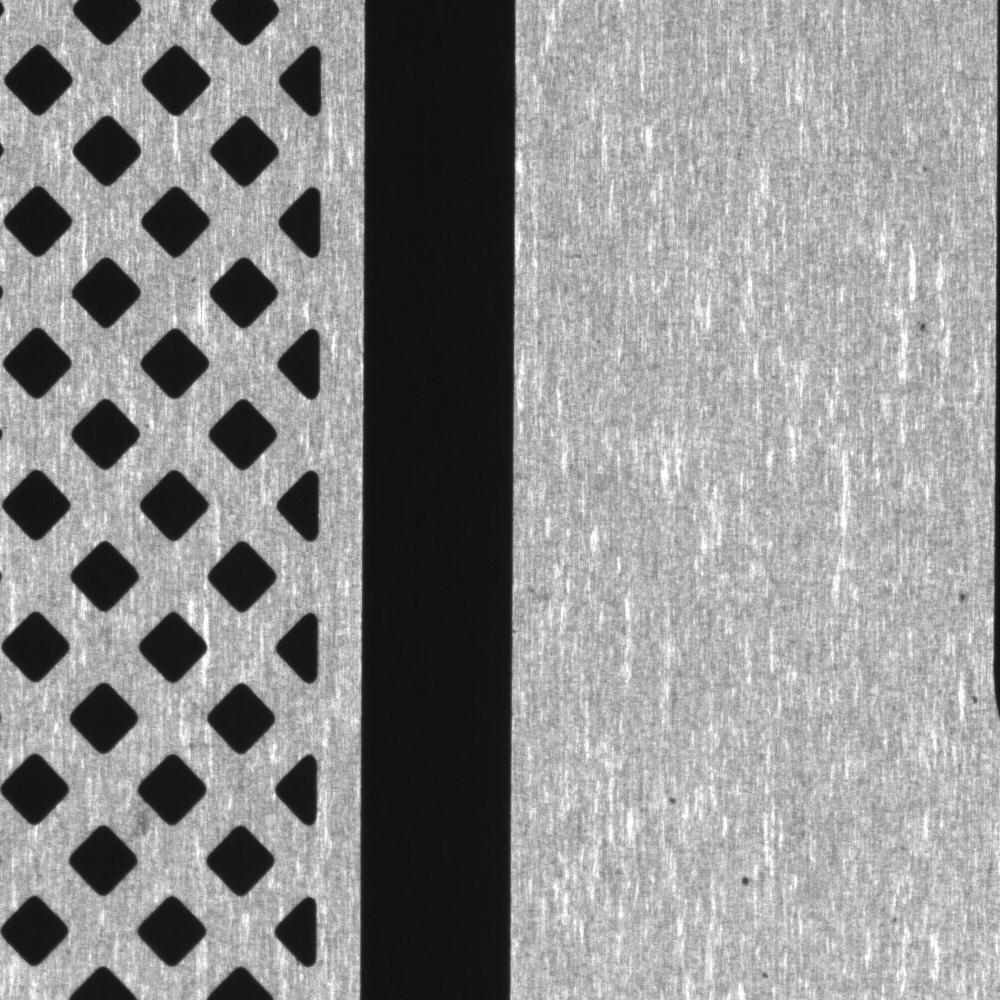Pinhole: (902, 311, 945, 348), (727, 860, 765, 899), (941, 580, 981, 616), (663, 780, 689, 820), (958, 683, 991, 714), (754, 958, 780, 988)
